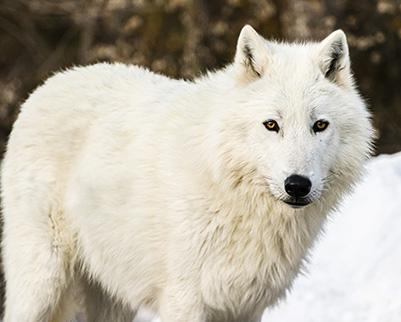fox: (2, 25, 379, 322)
